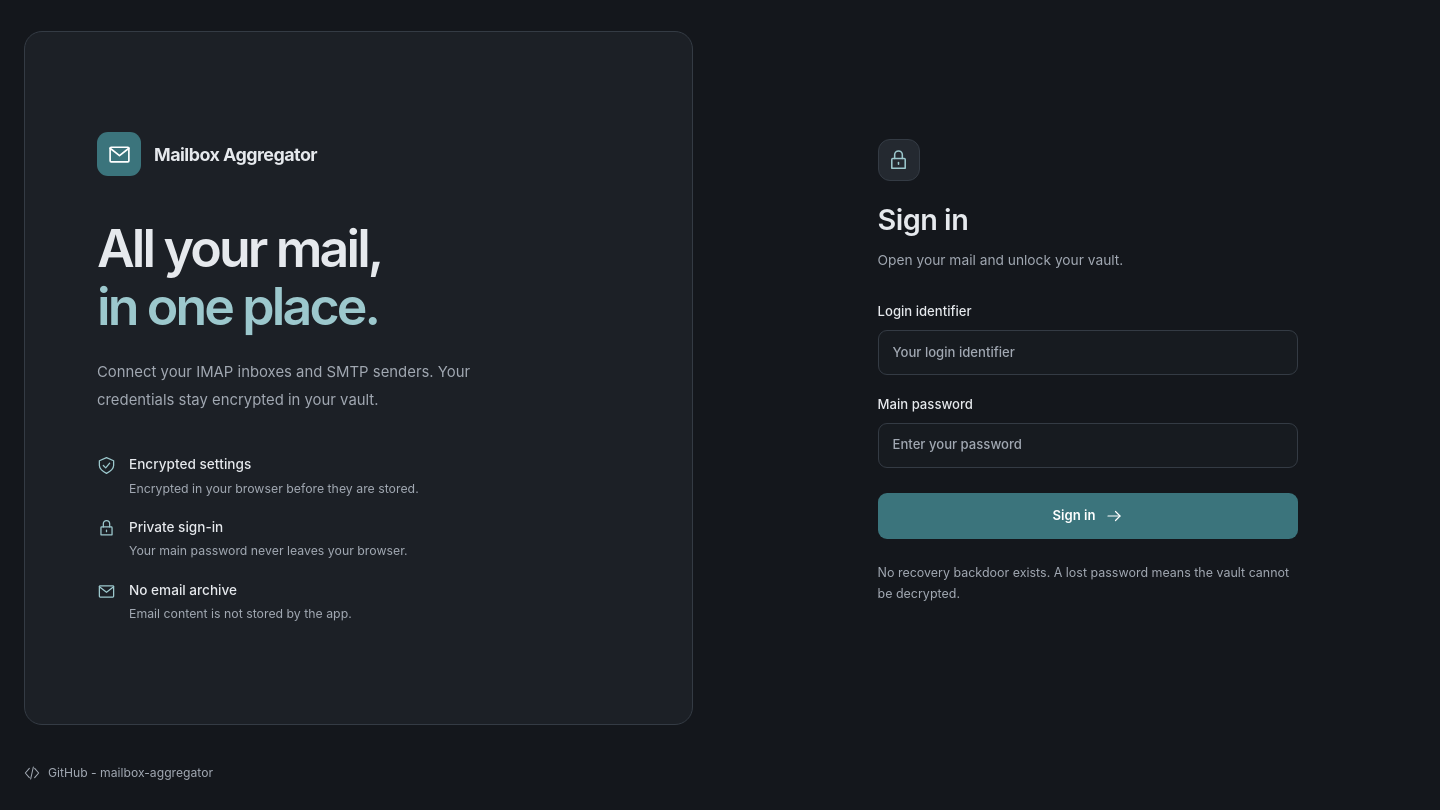
Test: signing in unlocks the browser vault › explains a missing session cookie after successful authentication without blaming the password
Type "Me@example.test" into the field labelled "Login identifier" at point(1088, 352), box [878,330,1298,375]
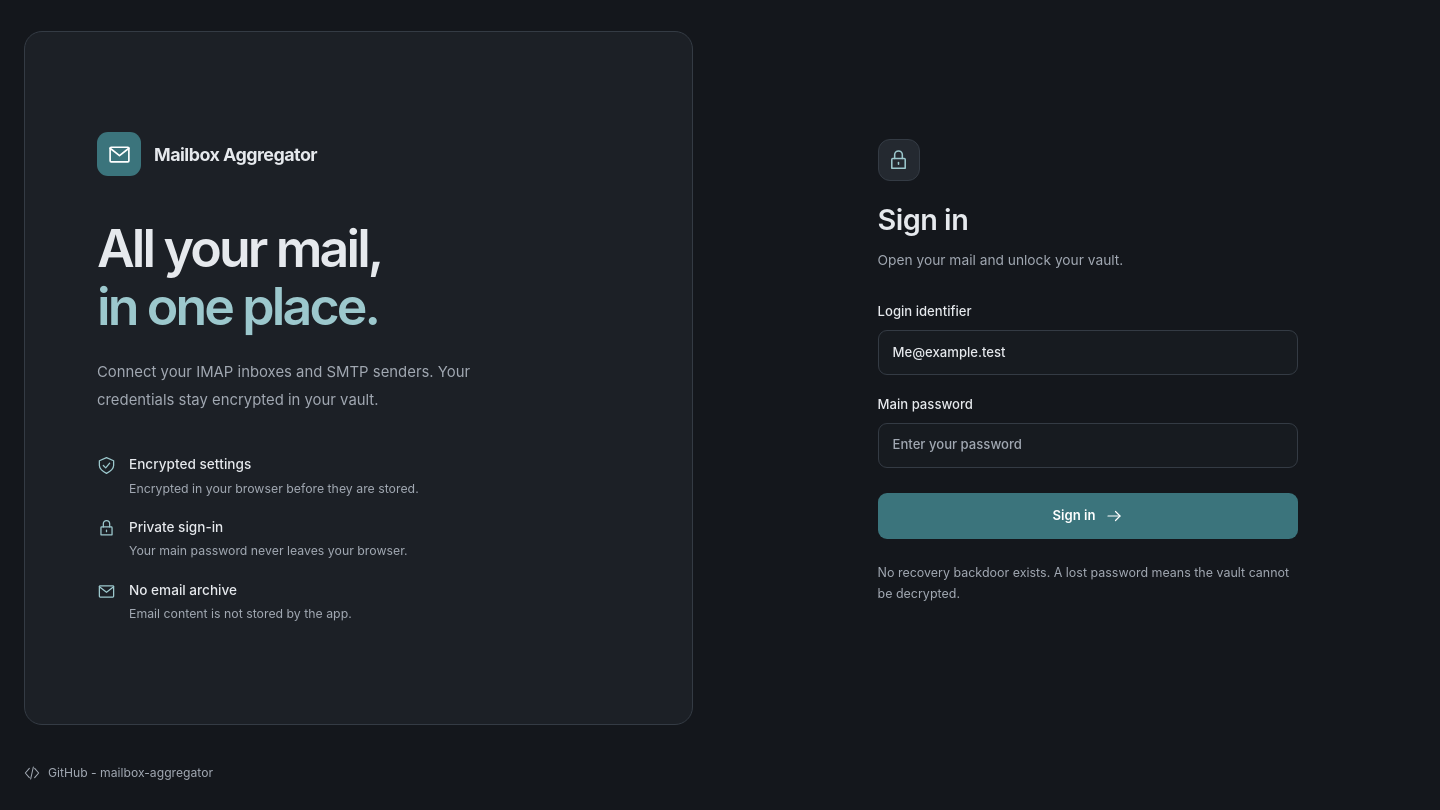
Type "correct horse battery staple" into the password field labelled "Main password" at point(1088, 445), box [878,423,1298,468]
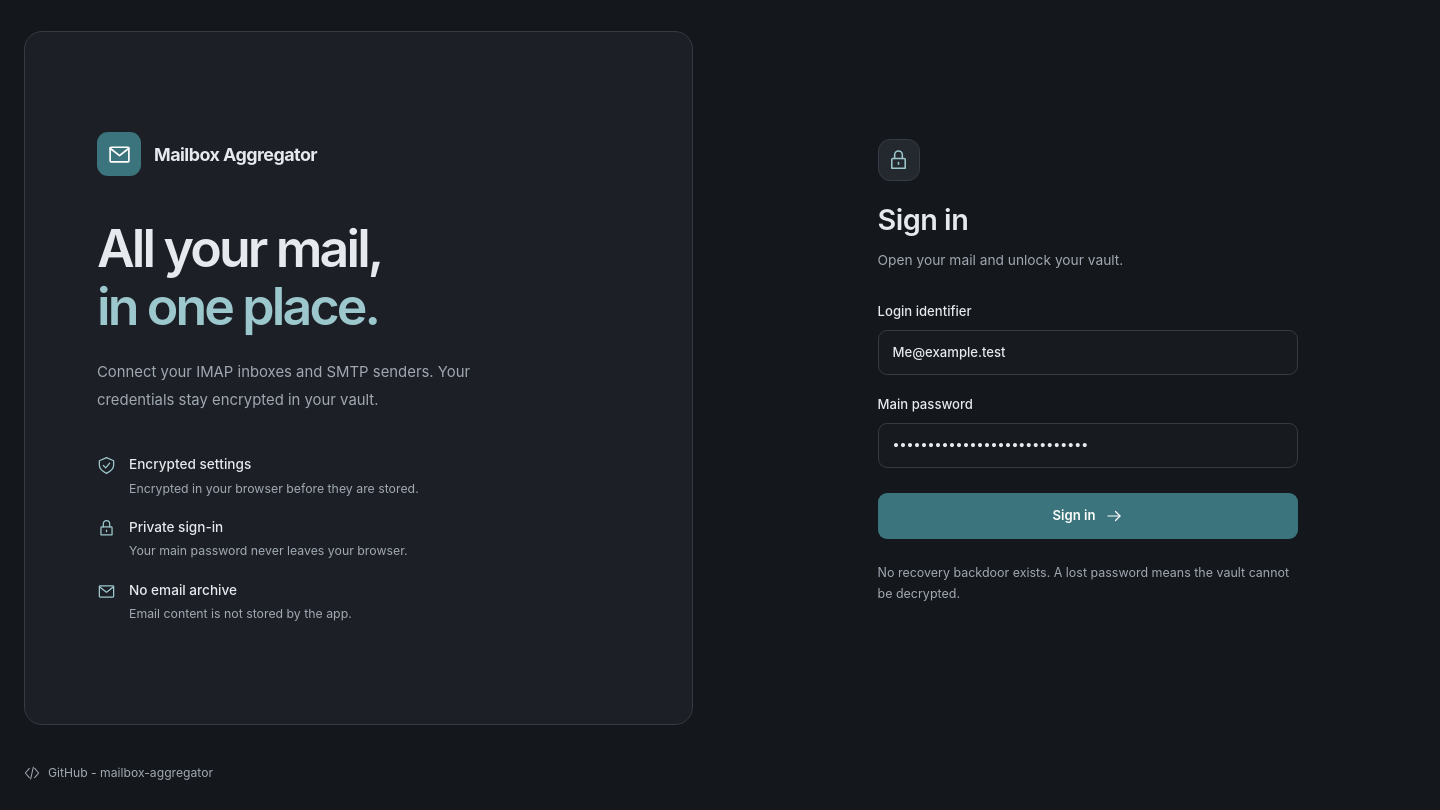
Submit the form, box [878,302,1298,539]
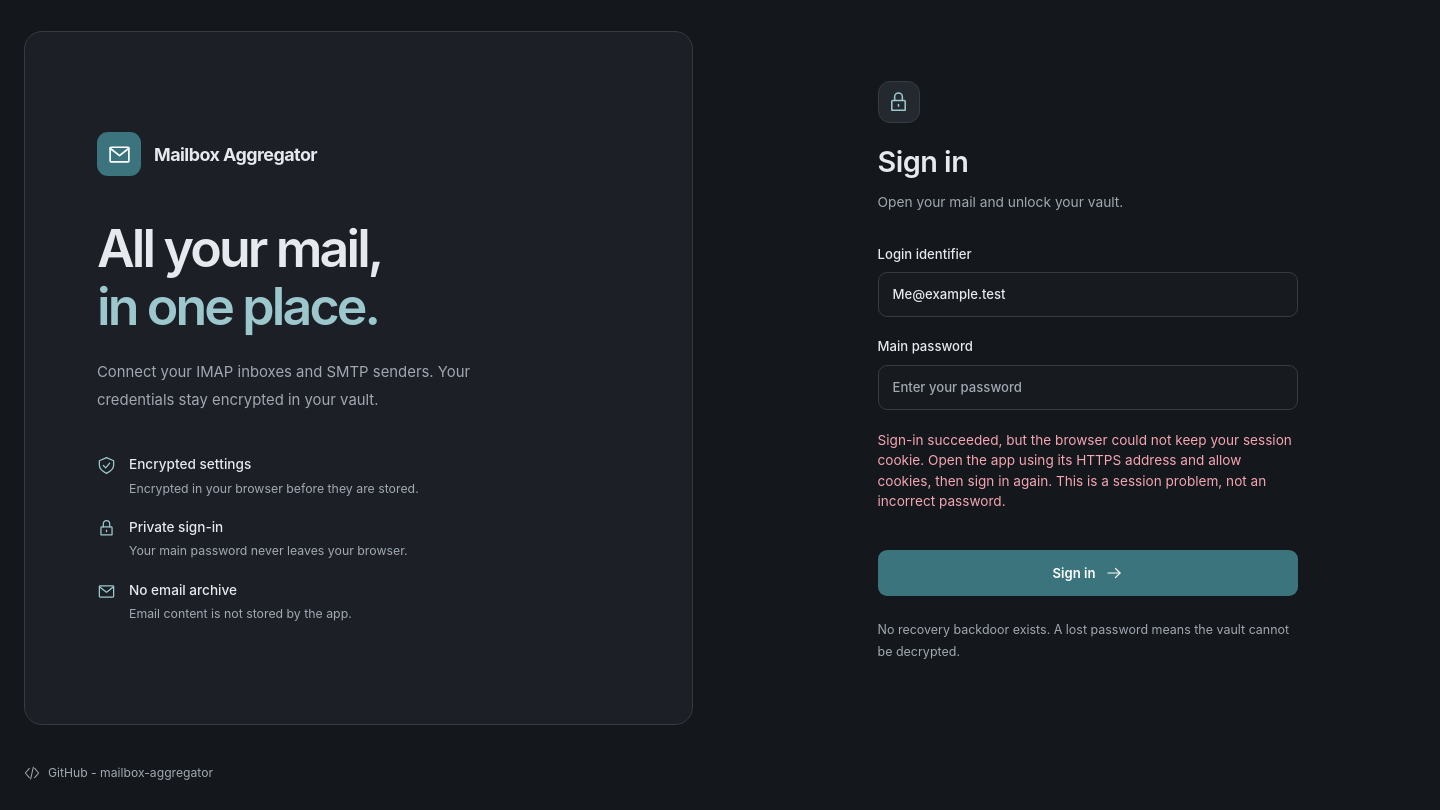
Expected: the message shows "HTTPS", [878,432,1292,509]
Expected: the message shows "Sign-in succeeded", [878,432,1292,509]
Expected: the message shows "not an incorrect password", [878,432,1292,509]
